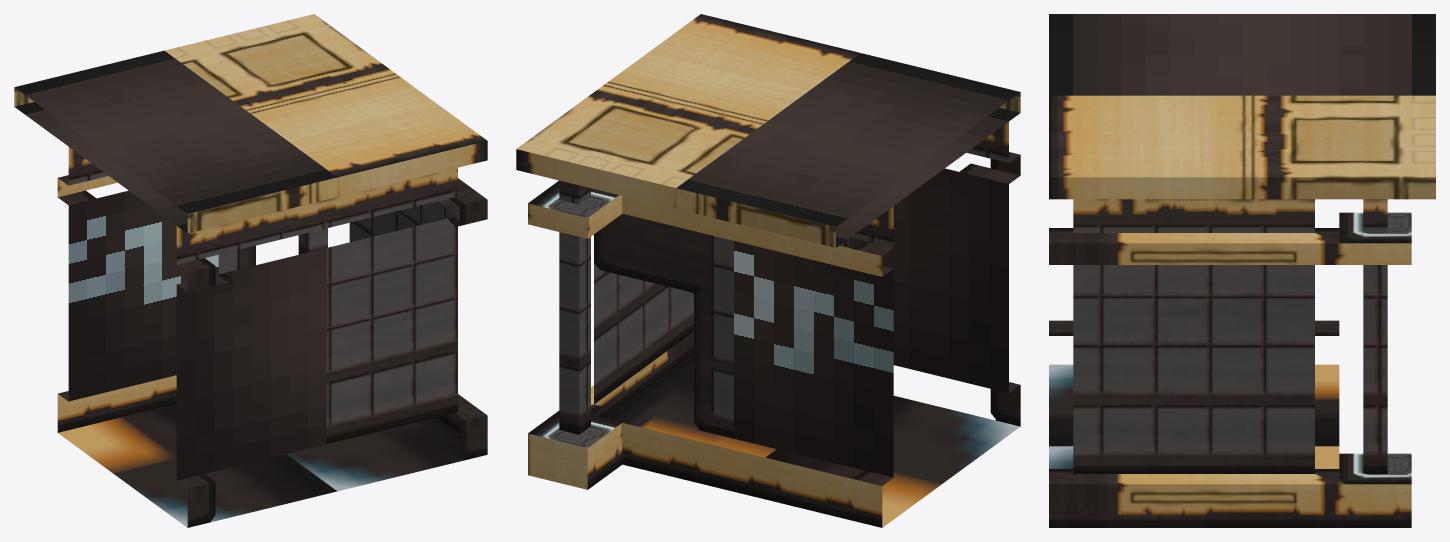
Rendered from desk_left.obj.
3 views of the same model, side by side, from view 1: azimuth 30°, elevation 25°; view 2: azimuth 150°, elevation 25°; view 3: azimuth 270°, elevation 25° (orthographic). The views are drawn at different scales.
Visible parts, largest first — view 1: DESK_LEFT_MAIN; view 2: DESK_LEFT_MAIN; view 3: DESK_LEFT_MAIN.
Boxes of the visible parts, x1,y1,x2,y2 form: DESK_LEFT_MAIN: (14,14,487,527); DESK_LEFT_MAIN: (516,14,1020,527); DESK_LEFT_MAIN: (1049,14,1435,527).
Size of the model in its own units: 1 by 1 by 1.
